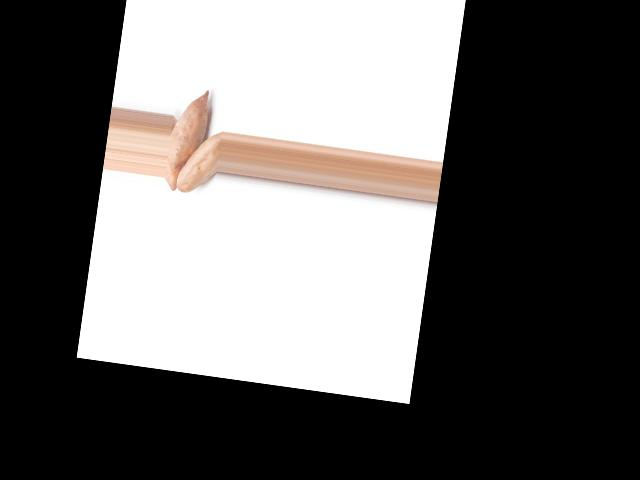sweet_potato: (176, 122, 223, 196)
